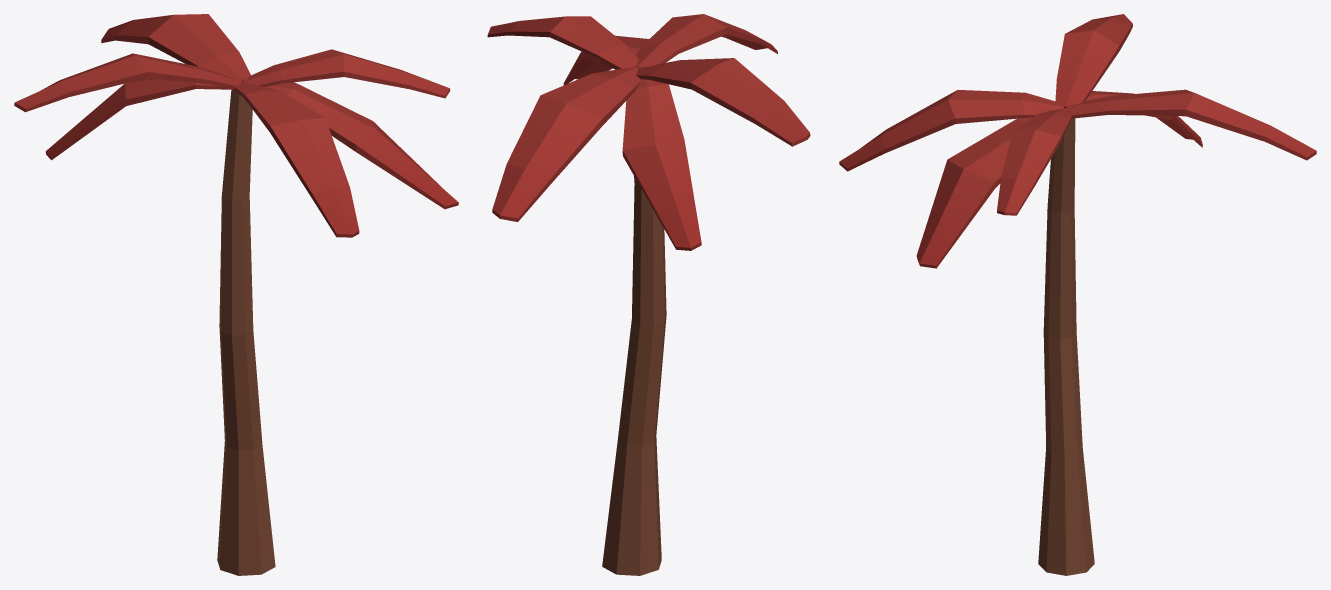
The model's file is Tree_38_gradient_red_vc.fbx.
3 renders of one model, left to right at view 1: azimuth 30°, elevation 25°; view 2: azimuth 150°, elevation 25°; view 3: azimuth 270°, elevation 25°, orthographic. The views are drawn at different scales.
Parts seen in each view (by area): view 1: Tree_38_gradient_red_vc; view 2: Tree_38_gradient_red_vc; view 3: Tree_38_gradient_red_vc.
Part boxes in pixels (box(x1,y1,x2,y2)): Tree_38_gradient_red_vc: box(14, 14, 458, 575); Tree_38_gradient_red_vc: box(487, 14, 810, 575); Tree_38_gradient_red_vc: box(839, 14, 1316, 575).
Size of the model in its own units: 160 by 214 by 189.
